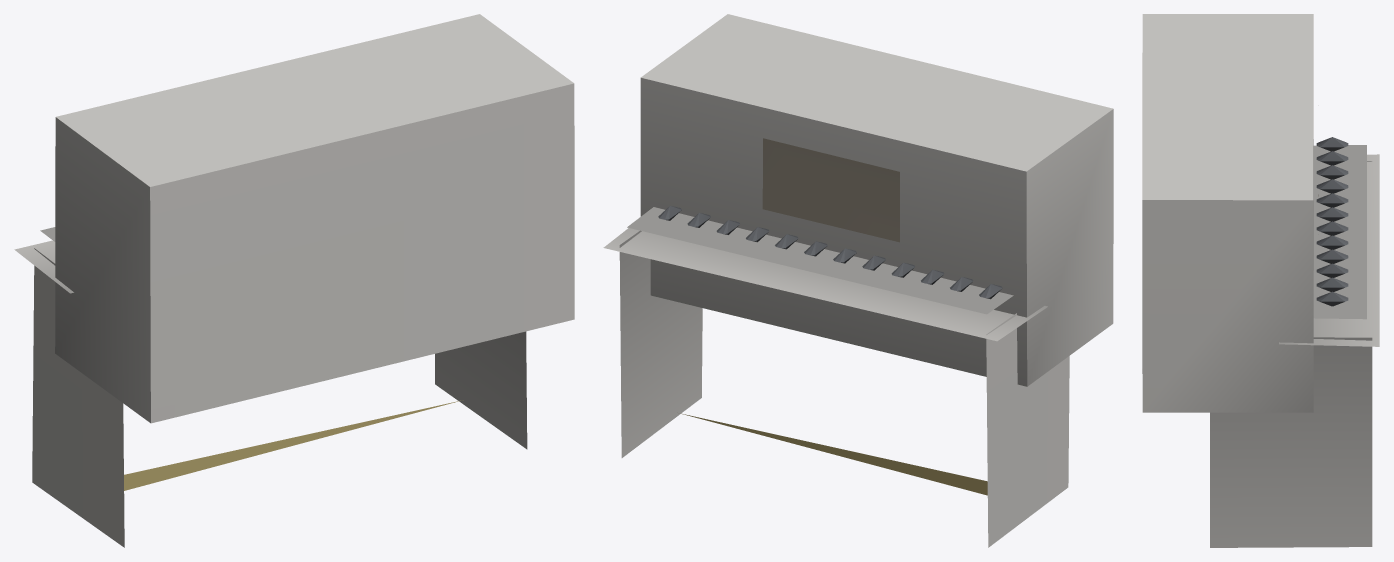
The model's file is furn_piano__white_low.glb.
3 renders of one model, left to right at view 1: azimuth 30°, elevation 25°; view 2: azimuth 150°, elevation 25°; view 3: azimuth 270°, elevation 25°, orthographic. The views are drawn at different scales.
Bounding box in the file's own units: 1.42 × 1.23 × 0.7502.
